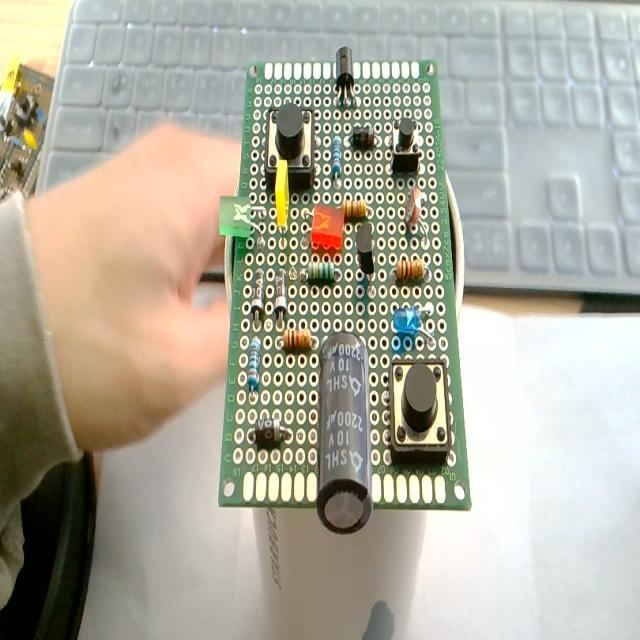Electrolytic capacitor: (316, 314, 374, 550)
cds: (400, 180, 434, 252)
diode: (344, 123, 384, 167), (245, 418, 295, 448), (248, 263, 266, 330), (274, 262, 288, 332)
led: (217, 192, 267, 254), (298, 206, 347, 262), (388, 300, 434, 353), (270, 153, 294, 254)
resistor: (276, 321, 316, 362), (388, 255, 436, 289), (246, 330, 262, 408), (299, 264, 345, 287), (336, 196, 374, 222), (330, 127, 346, 187)
switch: (385, 352, 457, 496), (262, 100, 317, 194), (383, 108, 425, 178)
transistor: (353, 217, 381, 292), (332, 44, 360, 114)
